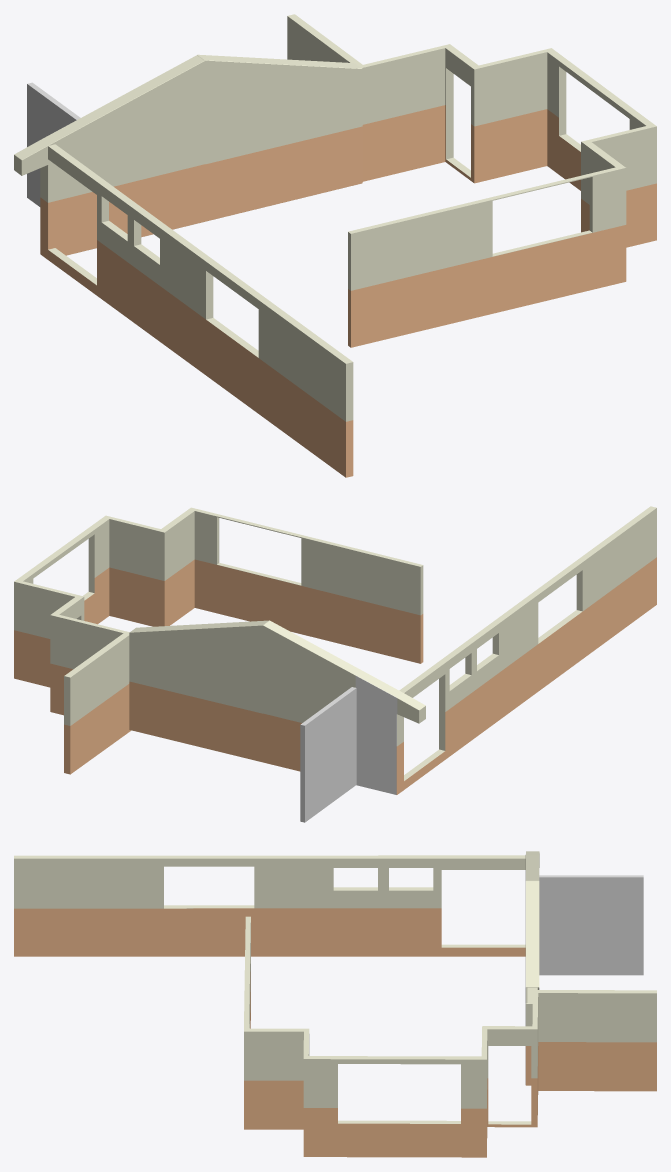
Rendered from paredS2.glb.
3 views of the same model, one above another, from view 1: azimuth 30°, elevation 25°; view 2: azimuth 150°, elevation 25°; view 3: azimuth 270°, elevation 25° (orthographic). The views are drawn at different scales.
Parts seen in each view (by area): view 1: Room.092; view 2: Room.092; view 3: Room.092.
Boxes of the visible parts, x1,y1,x2,y2 form: Room.092: [14, 14, 656, 477]; Room.092: [14, 506, 656, 822]; Room.092: [14, 851, 656, 1157].
Size of the model in its own units: 225 by 69.48 by 287.
